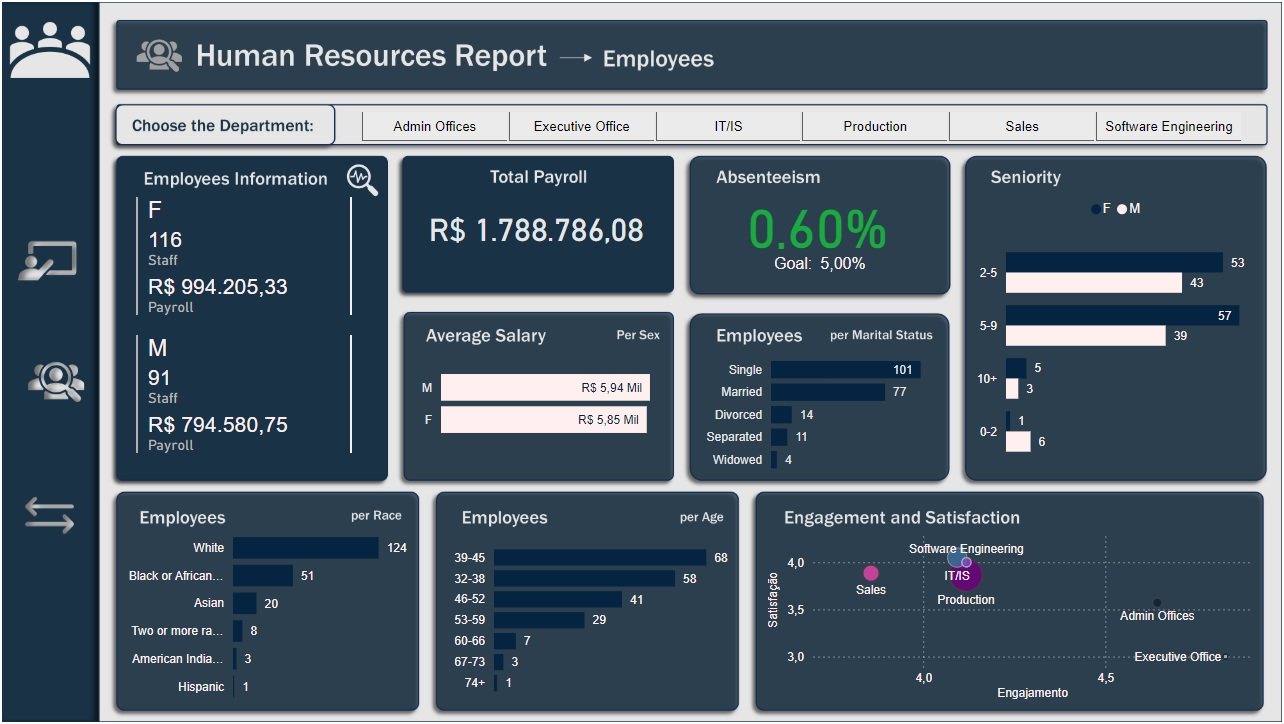

The page's visual inventory and layout, read from the dashboard file:
{"tool":"powerbi","page":{"name":"Funcionários","canvas":[1280,720],"ordinal":1},"visuals":[{"type":"slicer","fields":{"Values":["dContratacoes.Department"]},"box":[333.8,102.6,928.8,43.5],"z":0},{"type":"card","fields":{"Values":["Sum(dContratacoes.SalaryperMonth)"]},"box":[410.2,180.9,248.6,90],"z":1000},{"type":"barChart","fields":{"Y":["Medidas.mediaSalarialFuncionariosAtivos"],"Category":["dContratacoes.Sex"]},"box":[414.1,329.9,240.9,136.4],"z":2000},{"type":"card","fields":{"Values":["Medidas.absenteismoGeral"]},"box":[737.2,186.7,156.7,64.8],"z":3000},{"type":"barChart","fields":{"Category":["dContratacoes.MaritalDesc"],"Y":["Medidas.funcionariosAtivos"]},"box":[694.7,336.7,241.9,144.2],"z":4000},{"type":"multiRowCard","fields":{"Values":["Medidas.funcionariosAtivos","Sum(dContratacoes.SalaryperMonth)","dContratacoes.Sex"]},"box":[136.7,194.7,225.8,275.5],"z":5000},{"type":"scatterChart","fields":{"X":["Medidas.engajamento"],"Category":["dContratacoes.Department"],"Series":["dContratacoes.Department"],"Size":["Medidas.funcionariosAtivos"],"Y":["Medidas.satisfacao"]},"box":[761.4,517.6,501.2,185.8],"z":6000},{"type":"barChart","fields":{"Category":["dContratacoes.AgeRange"],"Y":["Medidas.funcionariosAtivos"]},"box":[446,526.3,286.4,177.1],"z":7000},{"type":"clusteredBarChart","fields":{"Category":["dContratacoes.Seniority"],"Y":["Medidas.funcionariosAtivos"],"Series":["dContratacoes.Sex"]},"box":[968.5,186.7,294.1,291.2],"z":8000},{"type":"barChart","fields":{"Category":["dContratacoes.RaceDesc"],"Y":["Medidas.funcionariosAtivos"]},"box":[112.2,510.8,298,201.2],"z":9000},{"type":"image","box":[6.8,221.6,77.4,73.5],"z":10000},{"type":"image","box":[16.4,479.9,62.9,66.8],"z":11000},{"type":"card","fields":{"Values":["Medidas.metaAbsenteismo"]},"box":[810.7,251.5,60,22.3],"z":12000},{"type":"textbox","box":[767.2,247.7,63.9,30],"z":13000}]}

Visuals, with their boxes on the page's 1280x720 design canvas (x1, y1, x2, y2). These are canvas units, not pixel positions in the 1284x724 screenshot, which may show the page scaled, cropped or inside an application window:
slicer - dContratacoes.Department: 334, 103, 1263, 146
card - Sum(dContratacoes.SalaryperMonth): 410, 181, 659, 271
barChart - Medidas.mediaSalarialFuncionariosAtivos x dContratacoes.Sex: 414, 330, 655, 466
card - Medidas.absenteismoGeral: 737, 187, 894, 252
barChart - dContratacoes.MaritalDesc x Medidas.funcionariosAtivos: 695, 337, 937, 481
multiRowCard - Medidas.funcionariosAtivos x Sum(dContratacoes.SalaryperMonth): 137, 195, 362, 470
scatterChart - Medidas.engajamento x dContratacoes.Department: 761, 518, 1263, 703
barChart - dContratacoes.AgeRange x Medidas.funcionariosAtivos: 446, 526, 732, 703
clusteredBarChart - dContratacoes.Seniority x Medidas.funcionariosAtivos: 968, 187, 1263, 478
barChart - dContratacoes.RaceDesc x Medidas.funcionariosAtivos: 112, 511, 410, 712
image: 7, 222, 84, 295
image: 16, 480, 79, 547
card - Medidas.metaAbsenteismo: 811, 252, 871, 274
textbox: 767, 248, 831, 278
